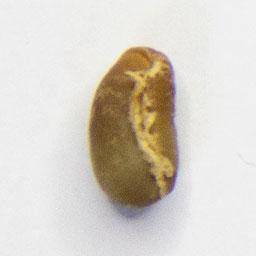defect: (83, 40, 182, 212)
